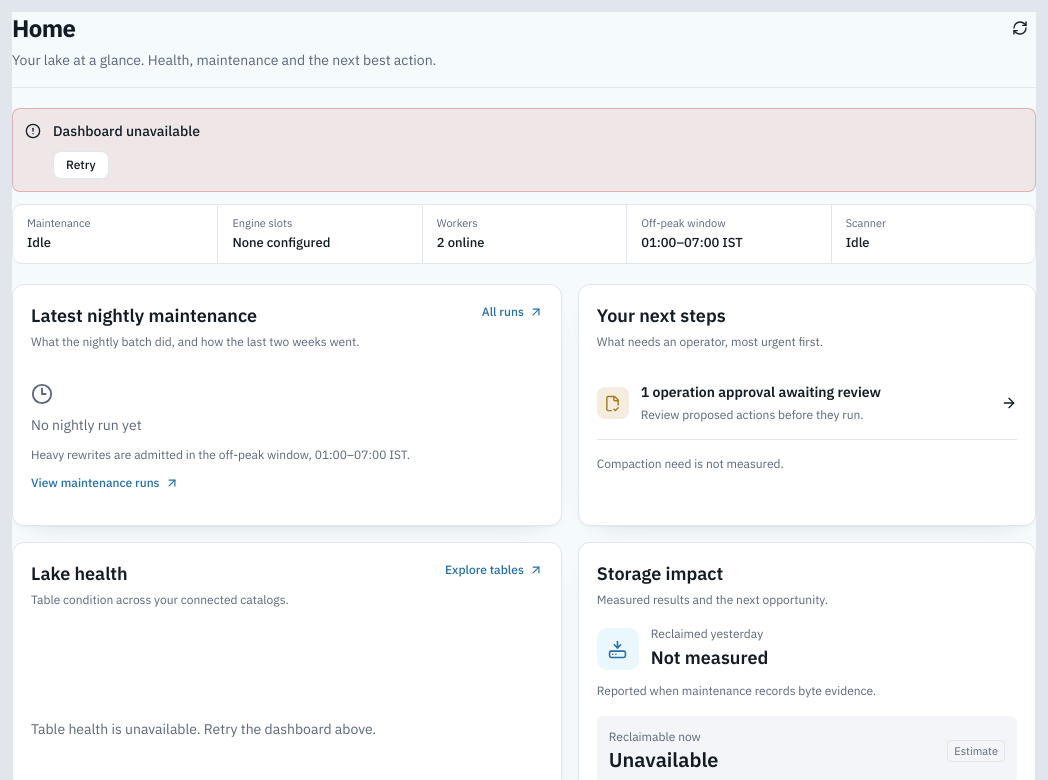
Test: Home overview › recovers a failed dashboard using Retry, while other cards remain usable
This screenshot has width=1048, height=780.
Expected: the text "Dashboard unavailable" is shown, left=53, top=122, right=200, bottom=140
Expected: the navigation bar named "Platform" is shown, left=12, top=204, right=1036, bottom=264
Click the button "Retry".
click(81, 165)  # box left=53, top=151, right=109, bottom=179
(page scrolled)
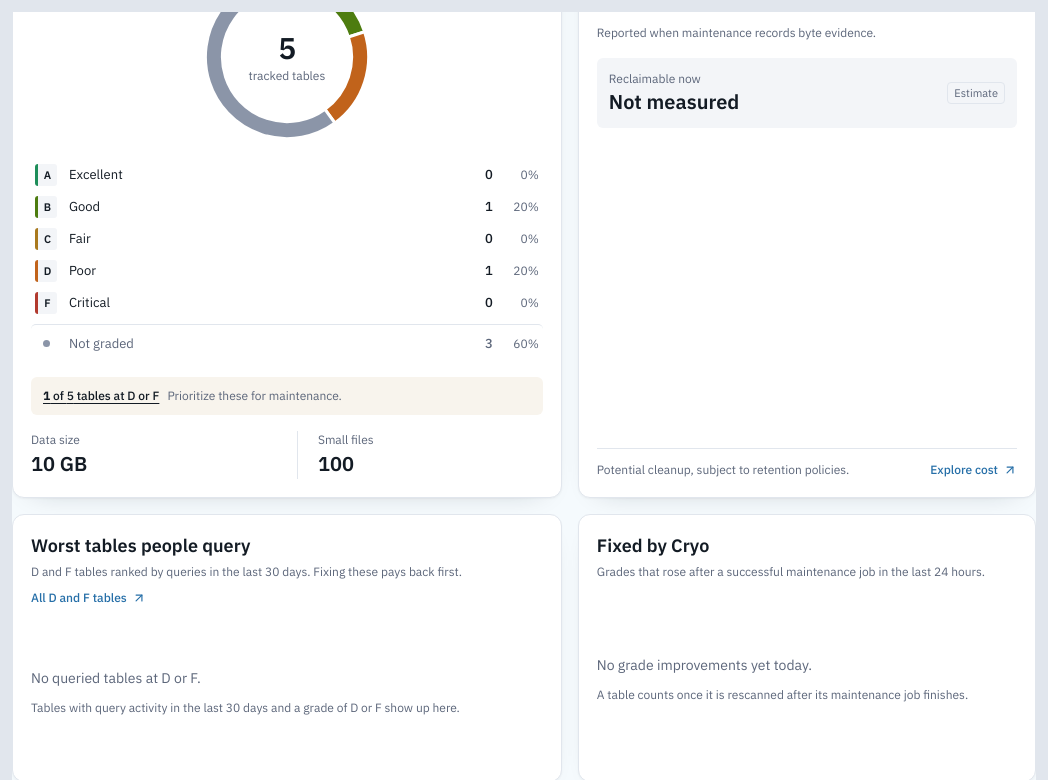
Result: the link "1 of 5 tables at D or F" is shown at left=43, top=386, right=159, bottom=404
